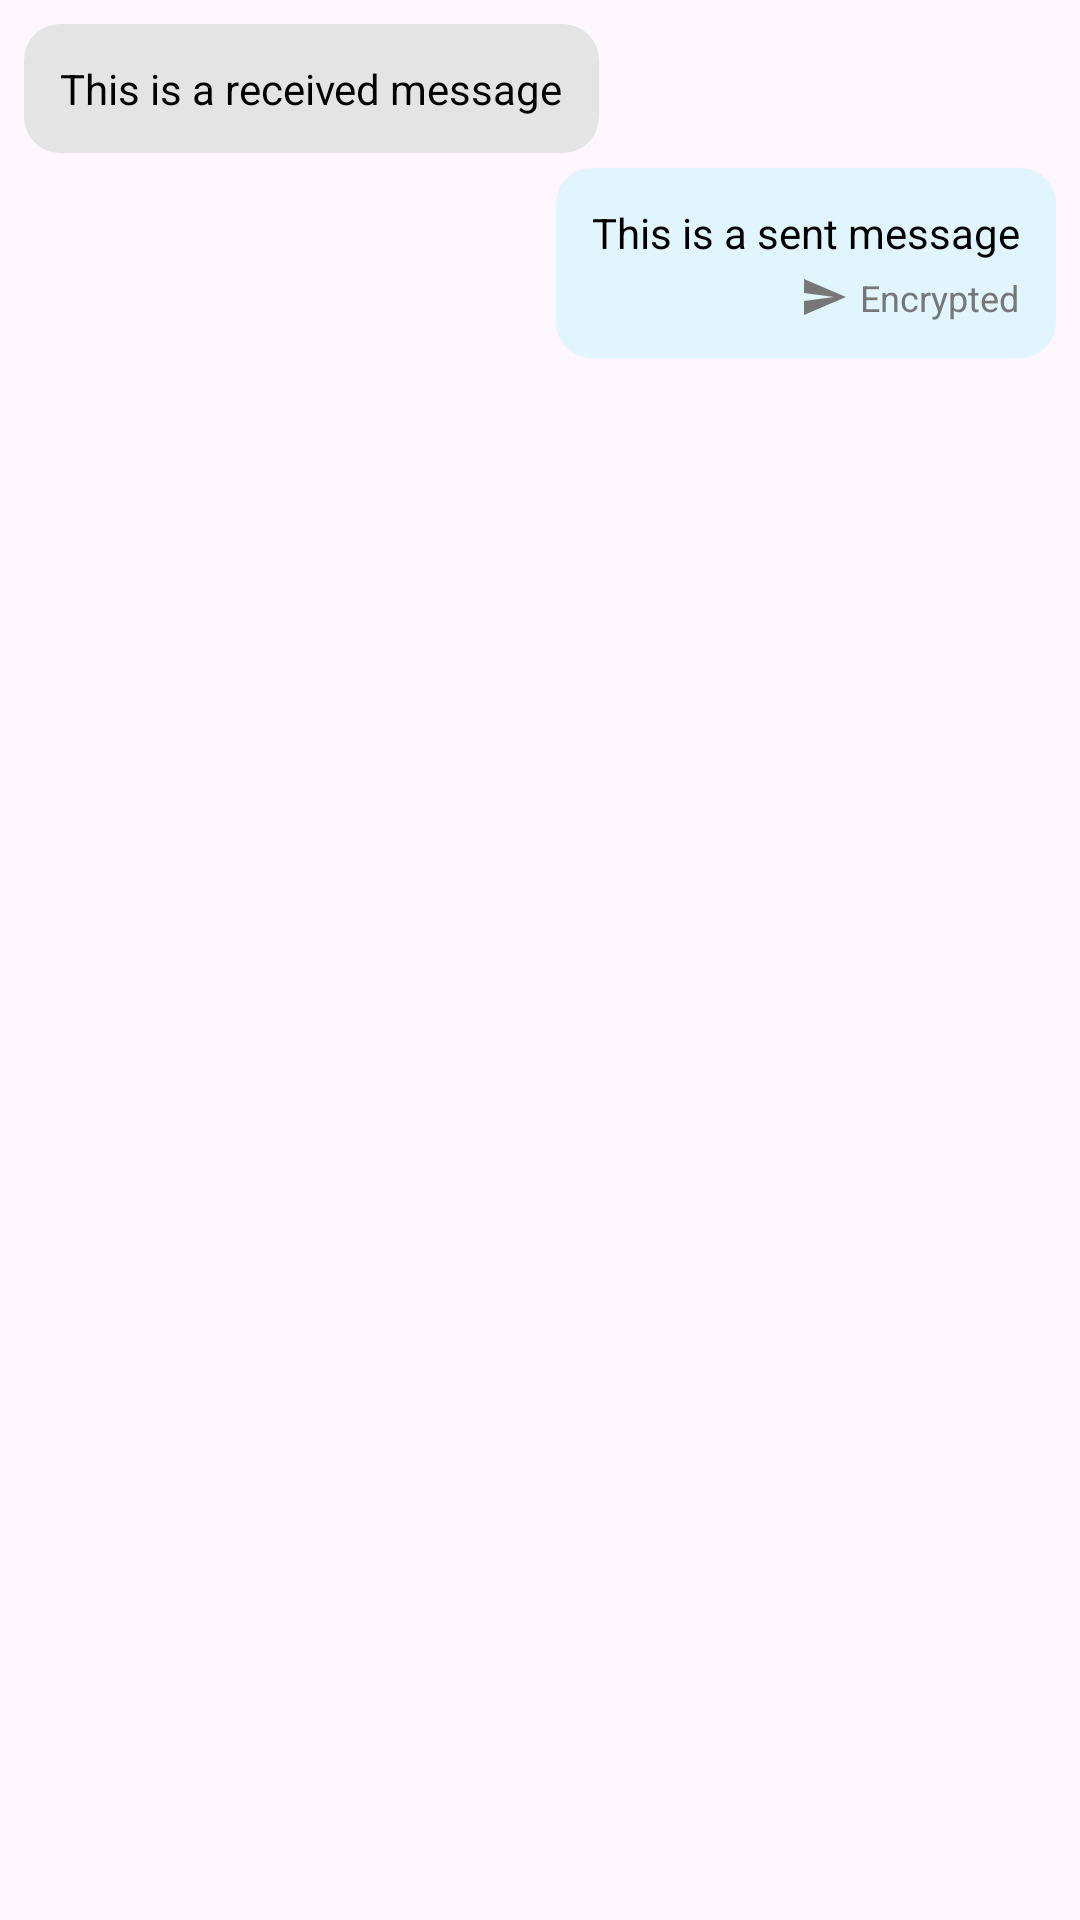

Where icons sit on this 1080*1920 app screen, as (x1, y1, x2, y2):
send: (804, 279, 846, 315)
